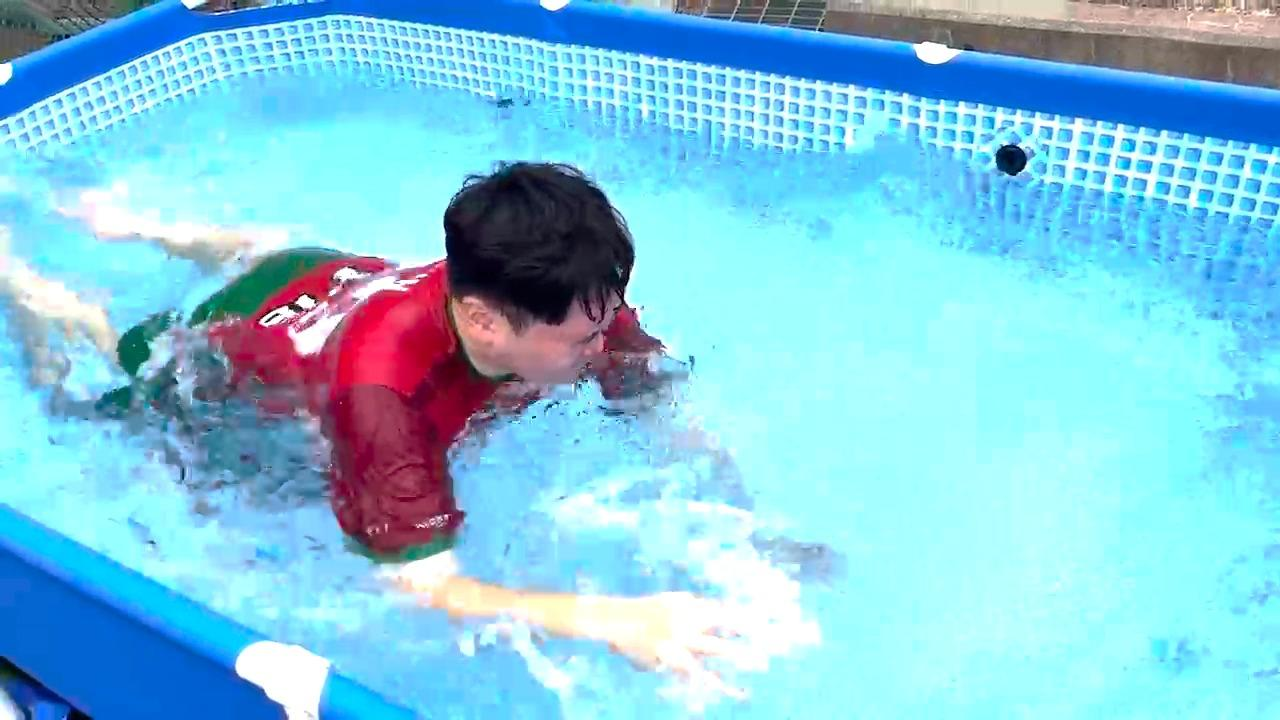Drowning: (2, 90, 825, 685)
